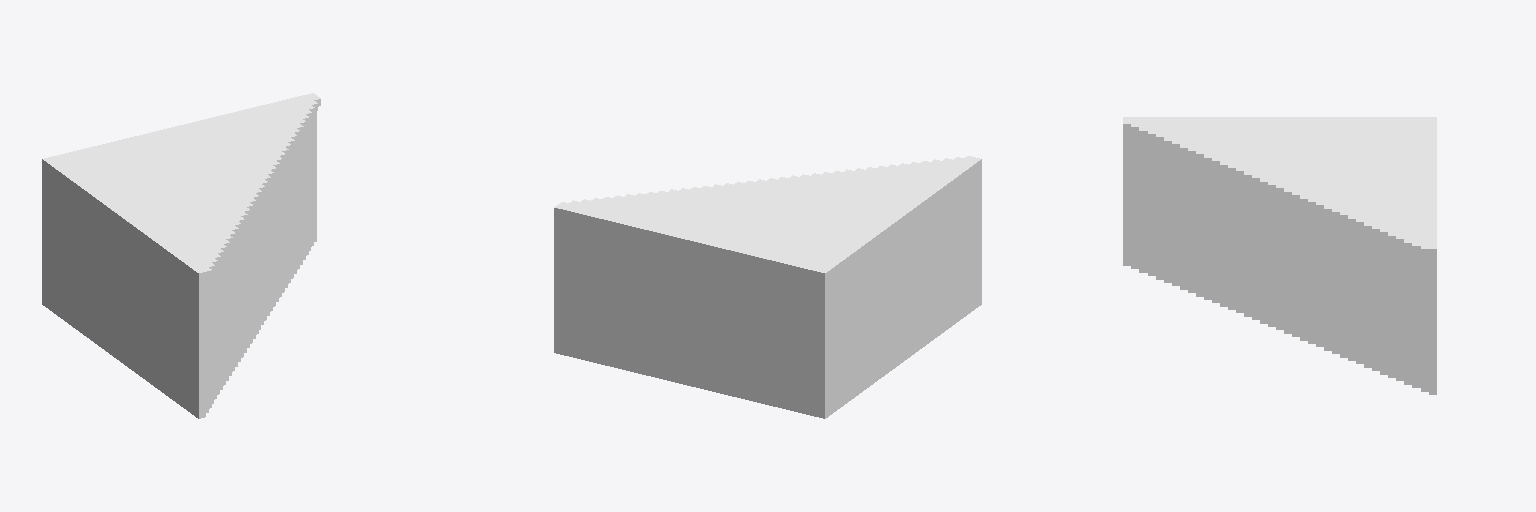
Rendered from DarkGrassHalf.obj.
3 views of the same model, side by side, from view 1: azimuth 30°, elevation 25°; view 2: azimuth 150°, elevation 25°; view 3: azimuth 270°, elevation 25° (orthographic).
Parts seen in each view (by area): view 1: object 1; view 2: object 1; view 3: object 1.
Boxes of the visible parts, x1=… form: object 1: x1=42, y1=93, x2=320, y2=418; object 1: x1=554, y1=156, x2=981, y2=418; object 1: x1=1123, y1=117, x2=1436, y2=394.
Bounding box in the file's own units: 3.9 × 2 × 3.9.